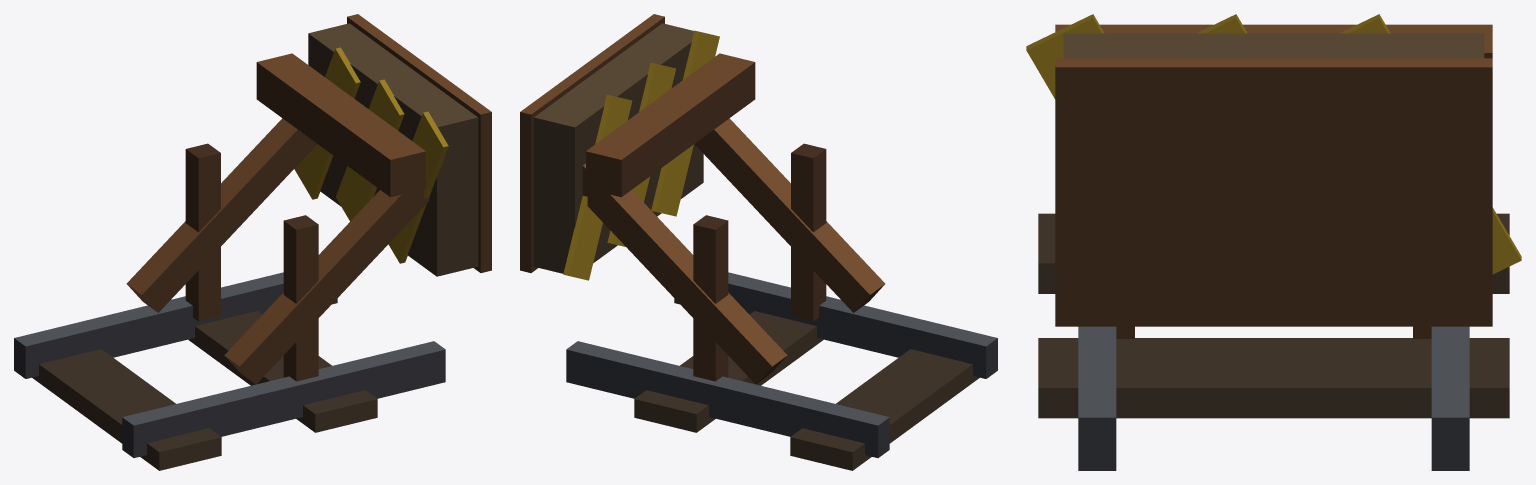
The model's file is rail-buffer.glb.
3 renders of one model, left to right at view 1: azimuth 30°, elevation 25°; view 2: azimuth 150°, elevation 25°; view 3: azimuth 270°, elevation 25°, orthographic. The views are drawn at different scales.
Visible parts, largest first — view 1: RailBuffer; view 2: RailBuffer; view 3: RailBuffer.
Part boxes in pixels (x1,y1,x2,y2): RailBuffer: (14, 14, 491, 470); RailBuffer: (520, 14, 997, 470); RailBuffer: (1026, 14, 1521, 470).
Bounding box in the file's own units: 0.7875 × 0.5951 × 0.5885.
1 material, 1 textured.
